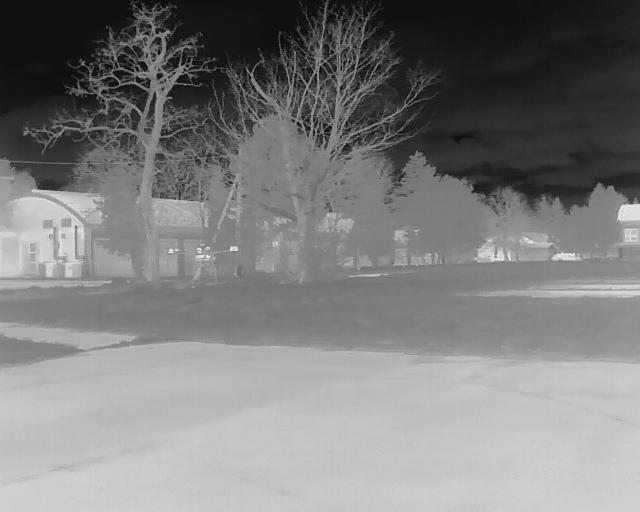drone: (160, 236, 249, 290)
